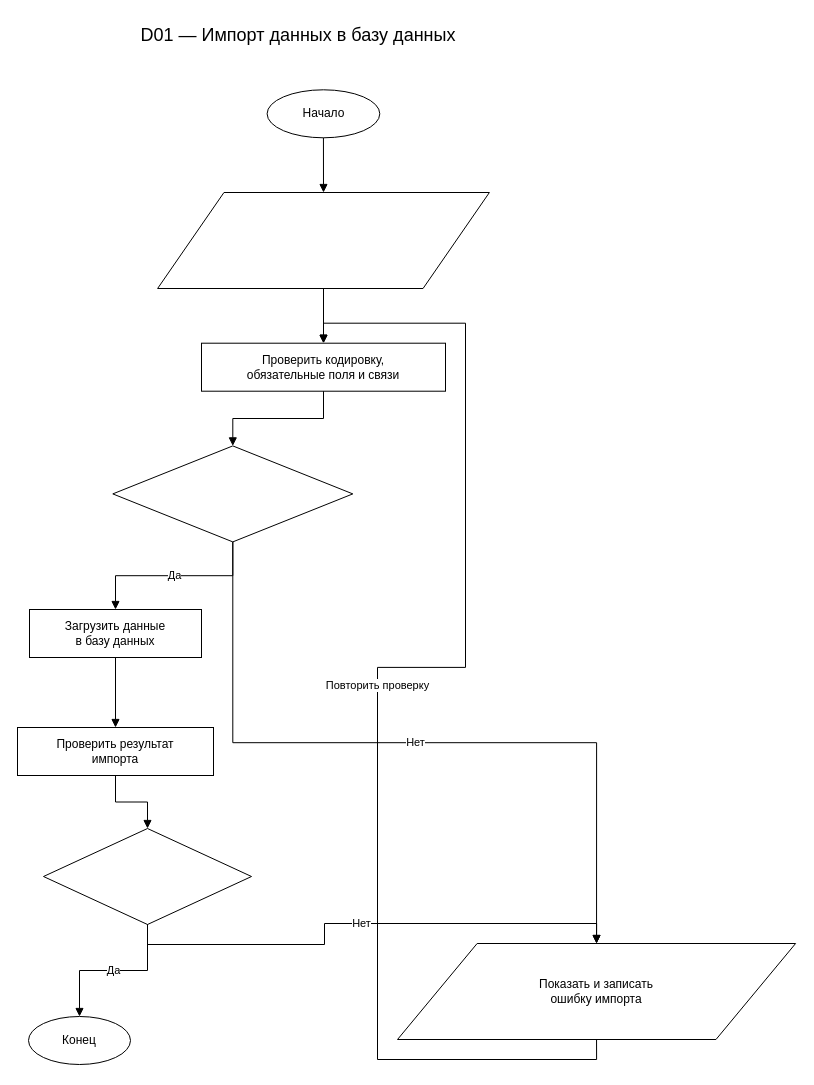
The diagram is 814 pixels wide and 1085 high, and some of its shapes have lost their labels. The shapes that lost their labels are listed below. From the top down, each one's centre as x and y in pixels, then its label:
pixel 323 240: Получить файлы импорта
pixel 232 493: Данные корректны?
pixel 147 876: Импорт успешен?
